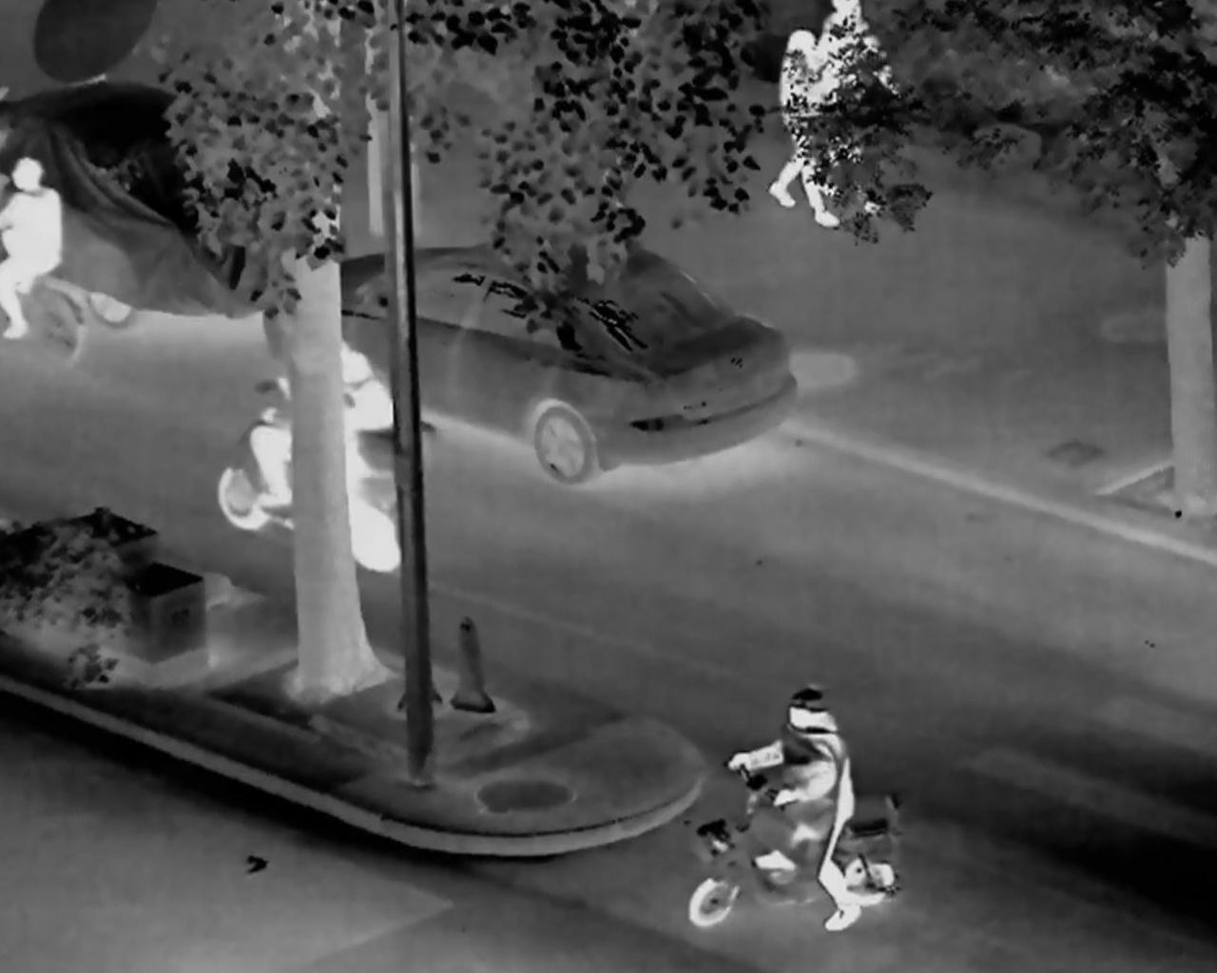person: (723, 685, 866, 933), (246, 346, 338, 519), (313, 346, 396, 534), (769, 29, 838, 226)
